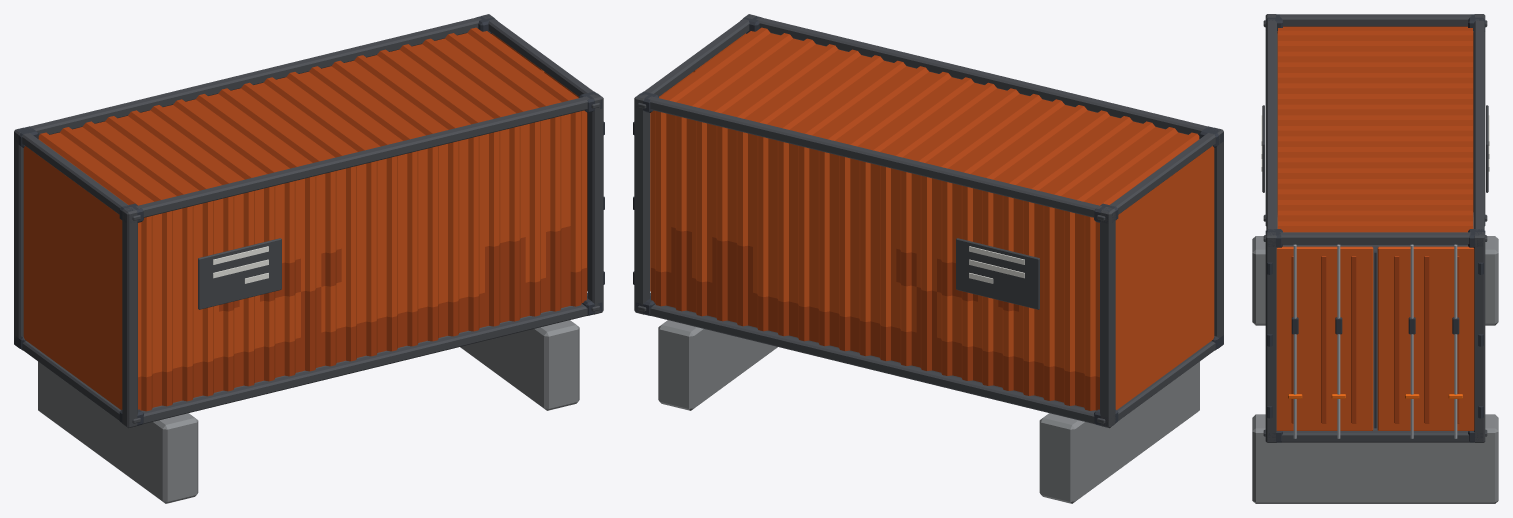
File: outpost_container.glb
3 views of the same model, side by side, from view 1: azimuth 30°, elevation 25°; view 2: azimuth 150°, elevation 25°; view 3: azimuth 270°, elevation 25° (orthographic). The views are drawn at different scales.
Visible parts, largest first — view 1: Body; view 2: Body; view 3: Body.
Boxes of the visible parts, x1,y1,x2,y2 form: Body: (14,14,604,503); Body: (633,14,1223,503); Body: (1252,14,1498,503).
Size of the model in its own units: 6.08 by 3.55 by 2.8.
